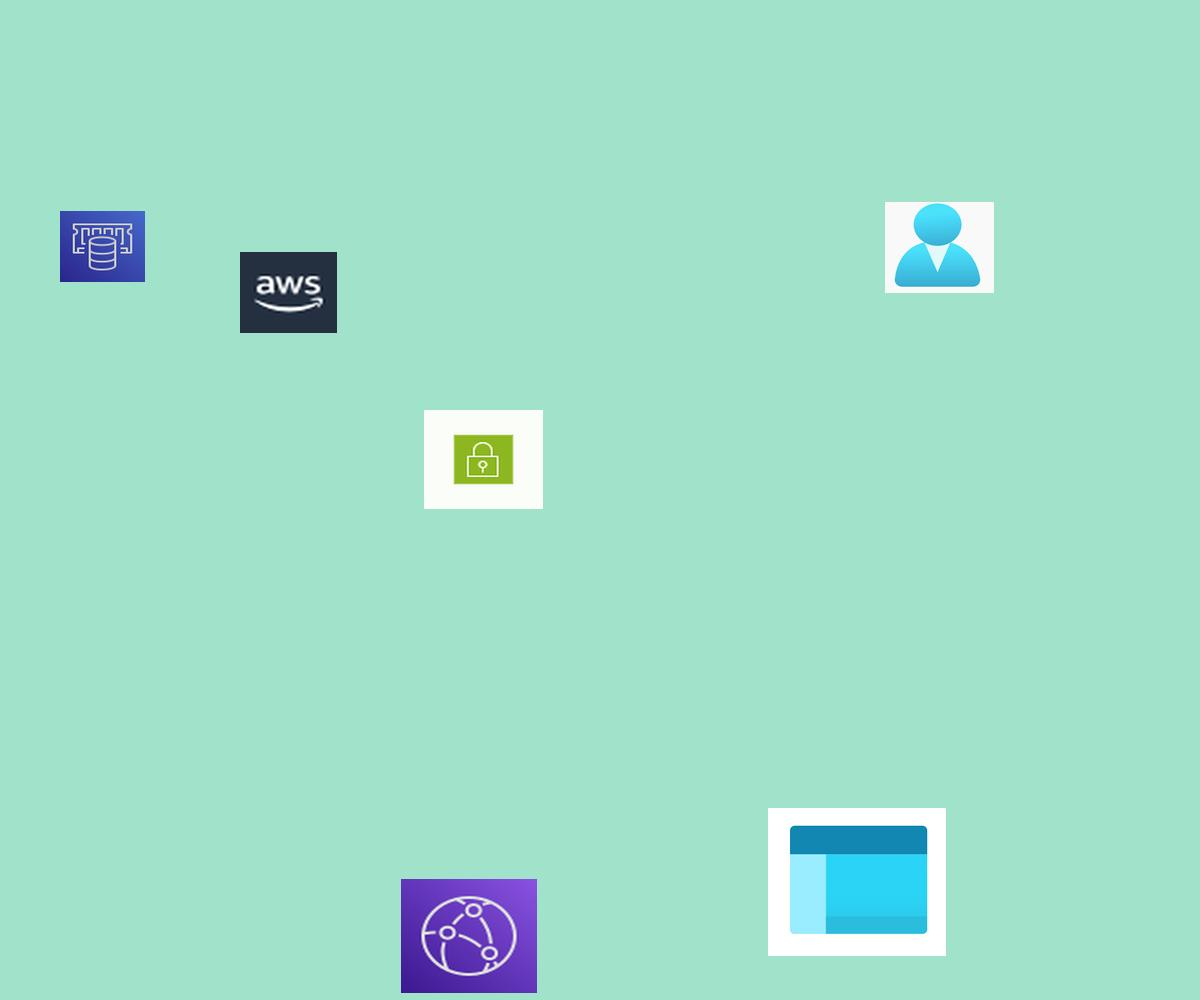AWS-Cloud-logo: (240, 252, 337, 333)
AWS-CloudFront: (401, 879, 537, 993)
AWS-ElastiCache: (60, 211, 145, 282)
AWS-Public-subnet: (424, 410, 543, 509)
Azure_management-portal: (768, 808, 946, 956)
Azure_users: (885, 202, 994, 293)
